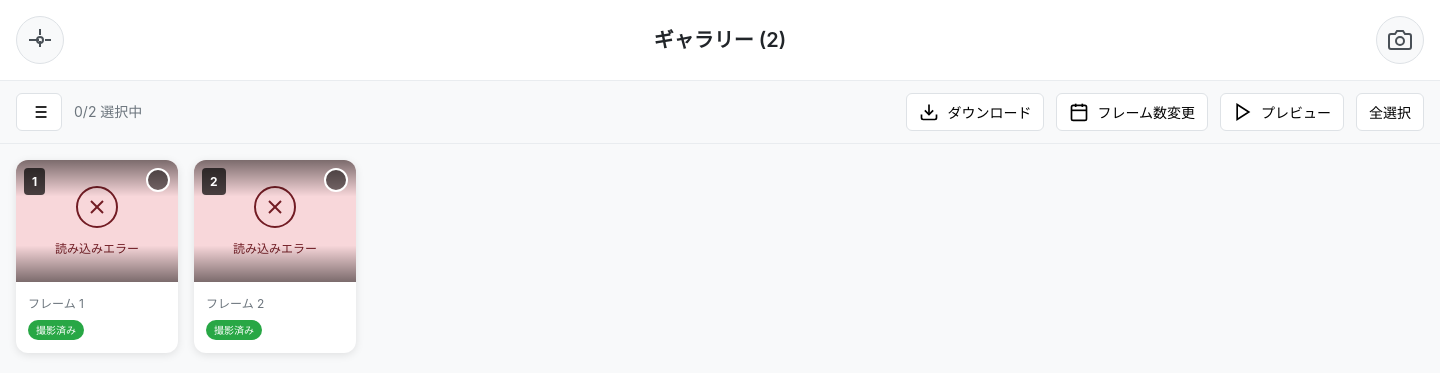
GalleryView › should select all frames when select all button is clicked
The width and height of the screenshot is (1440, 373).
What coordinates should you click on to do the following:
click the button with class "tool-button" showing "全選択"
I would click on:
 (1390, 112)
Its box is [1356, 93, 1424, 131].
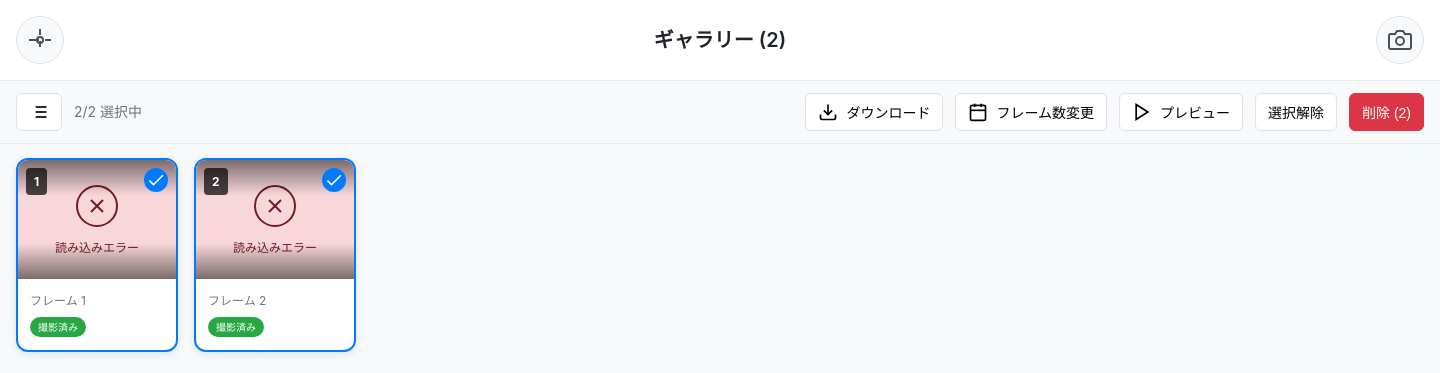
Now the text with class "frame-count" reads "2/2 選択中", box [74, 103, 142, 120]
